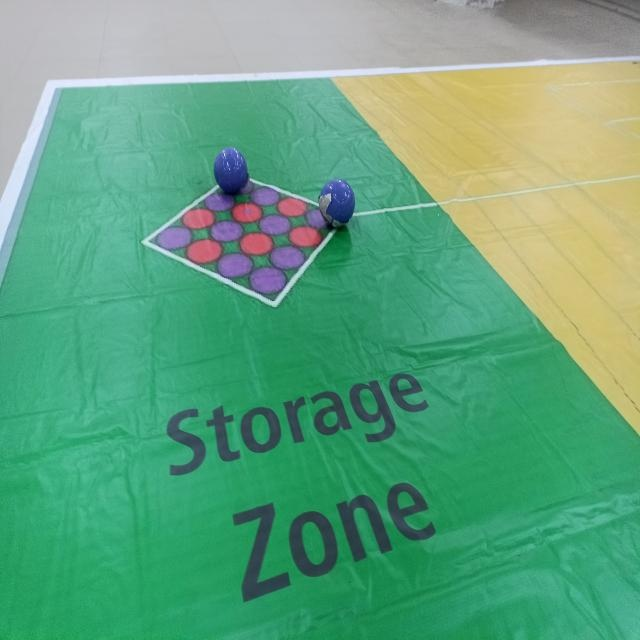purple_ball: (317, 176, 357, 231), (212, 144, 250, 194)
